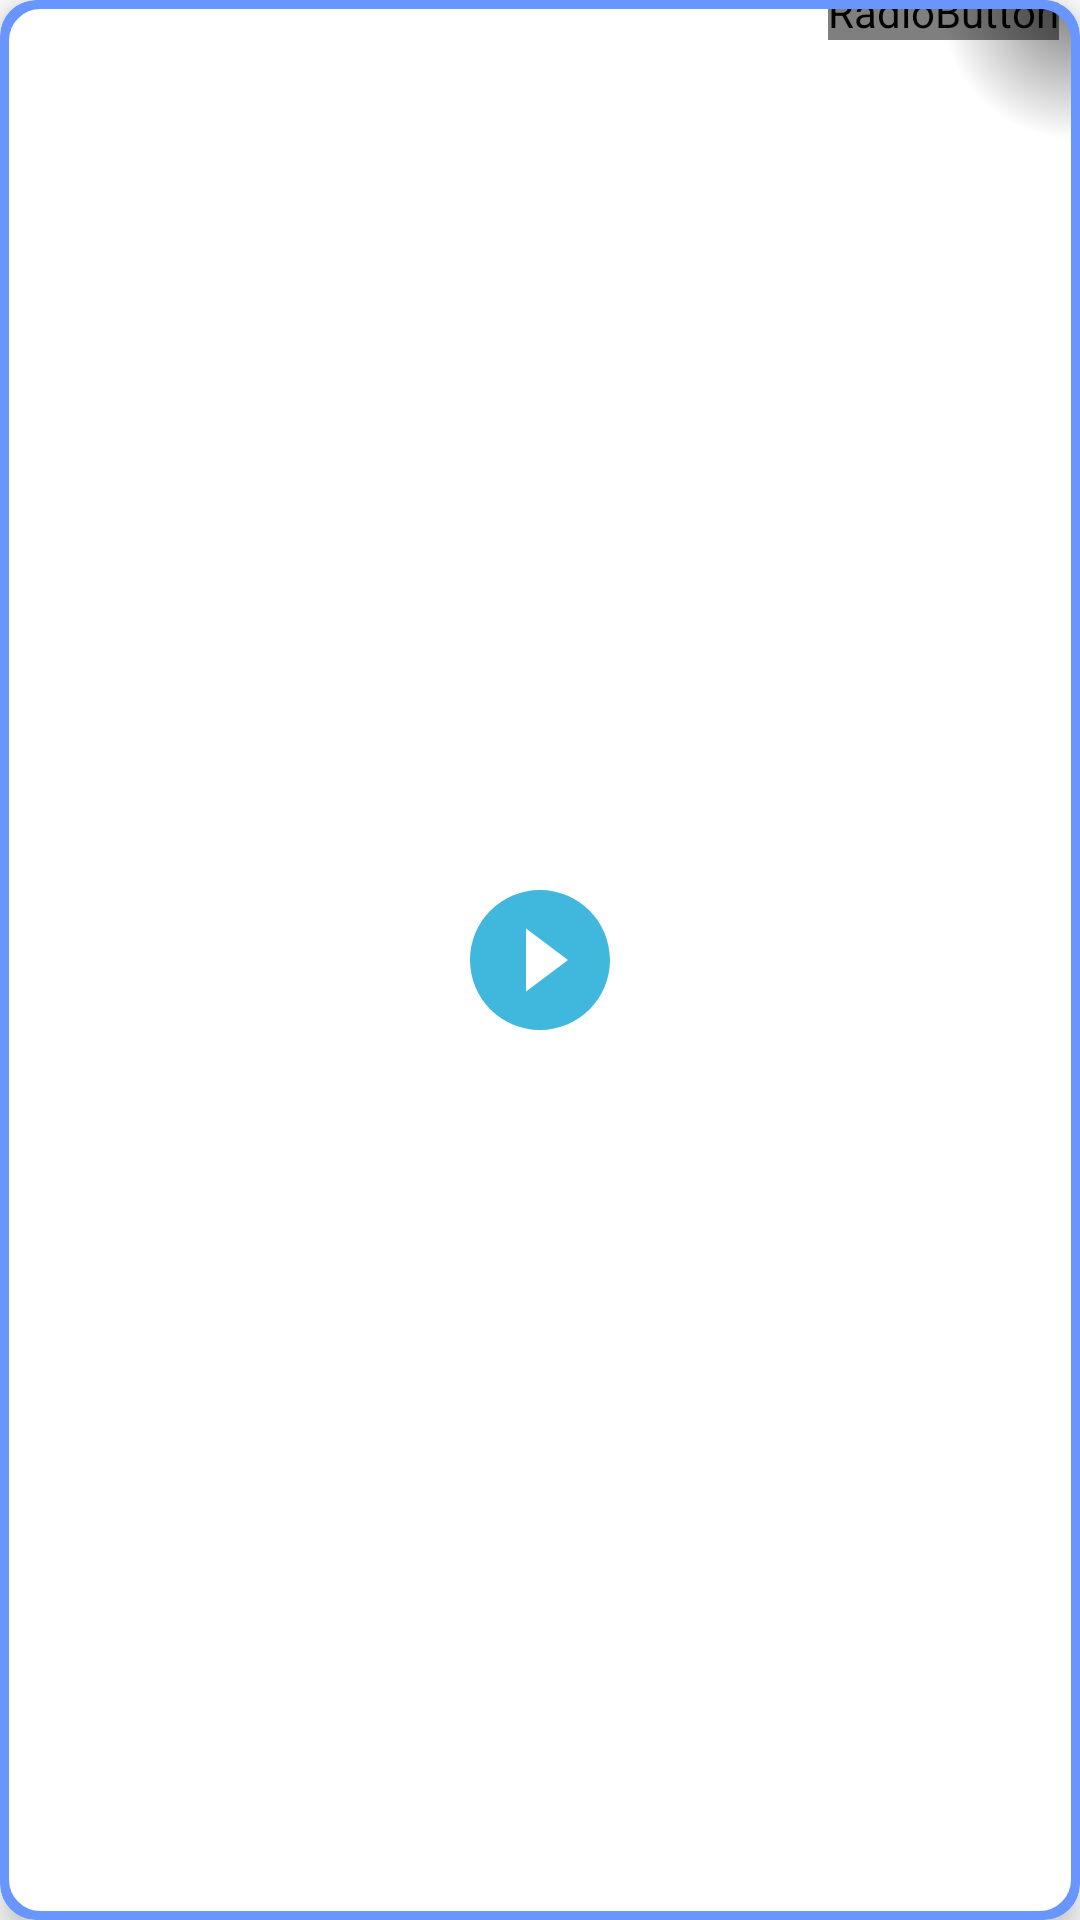

Icons on this 1080px×1920px Android screen, each with the point to tap as point (x, y):
play circle: point (540, 960)
